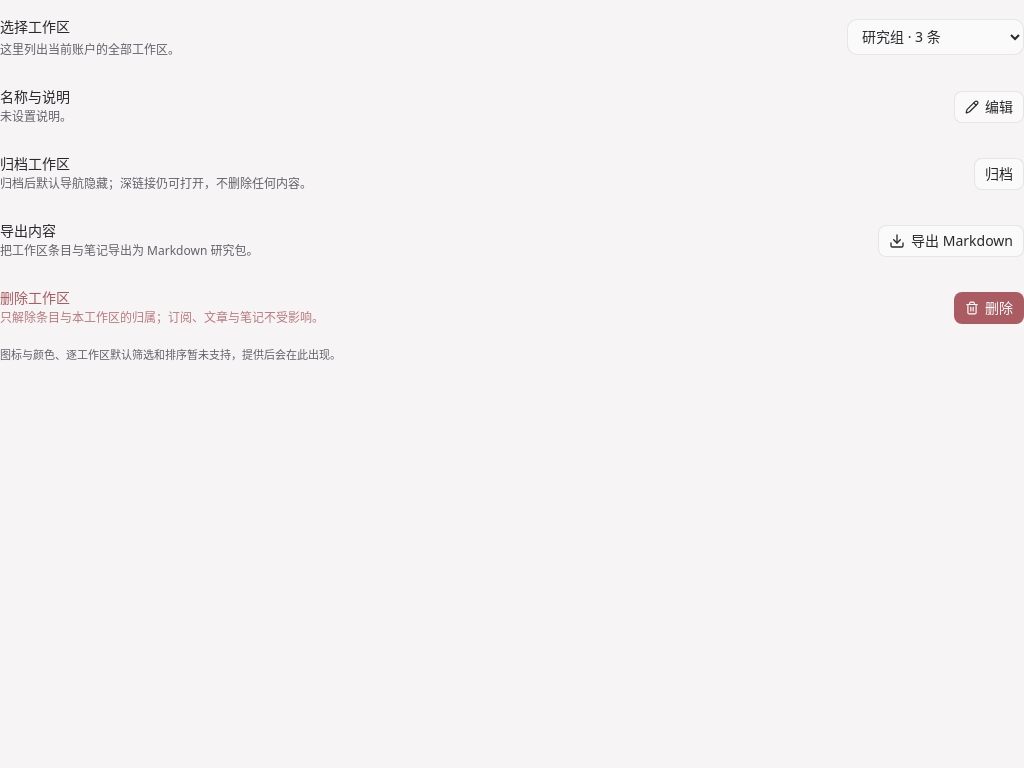
Test: 工作区设置面（R17） › 编辑名称与说明 → PATCH → 保存回显
Click the button "编辑" at (989, 107), box left=954, top=91, right=1023, bottom=123
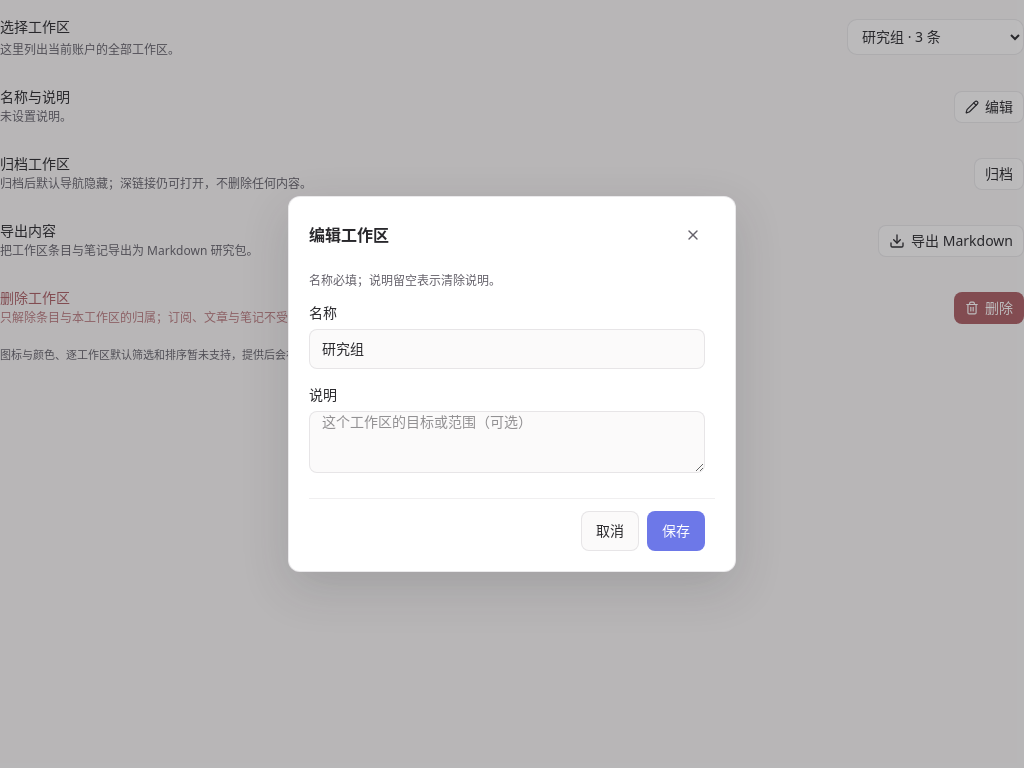
Replace the text in the field labelled "名称" with "深读清单" at (507, 349), box left=309, top=329, right=705, bottom=369
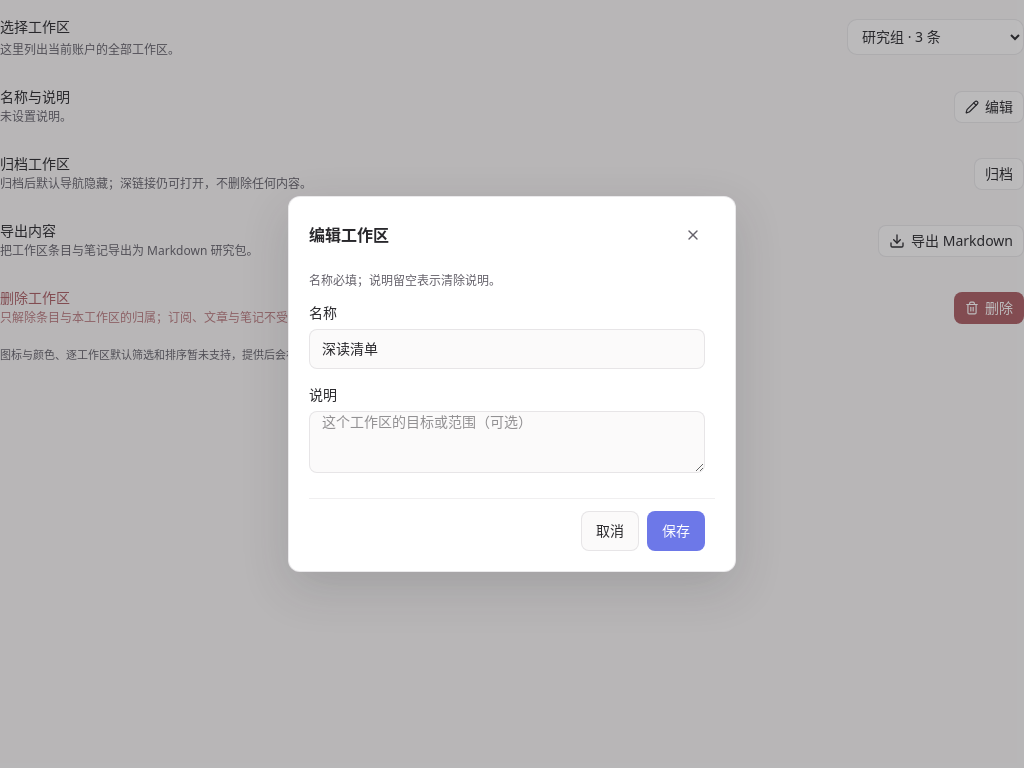
Type "只放本周要深读的条目" into the text box labelled "说明" at (507, 442), box left=309, top=411, right=705, bottom=473
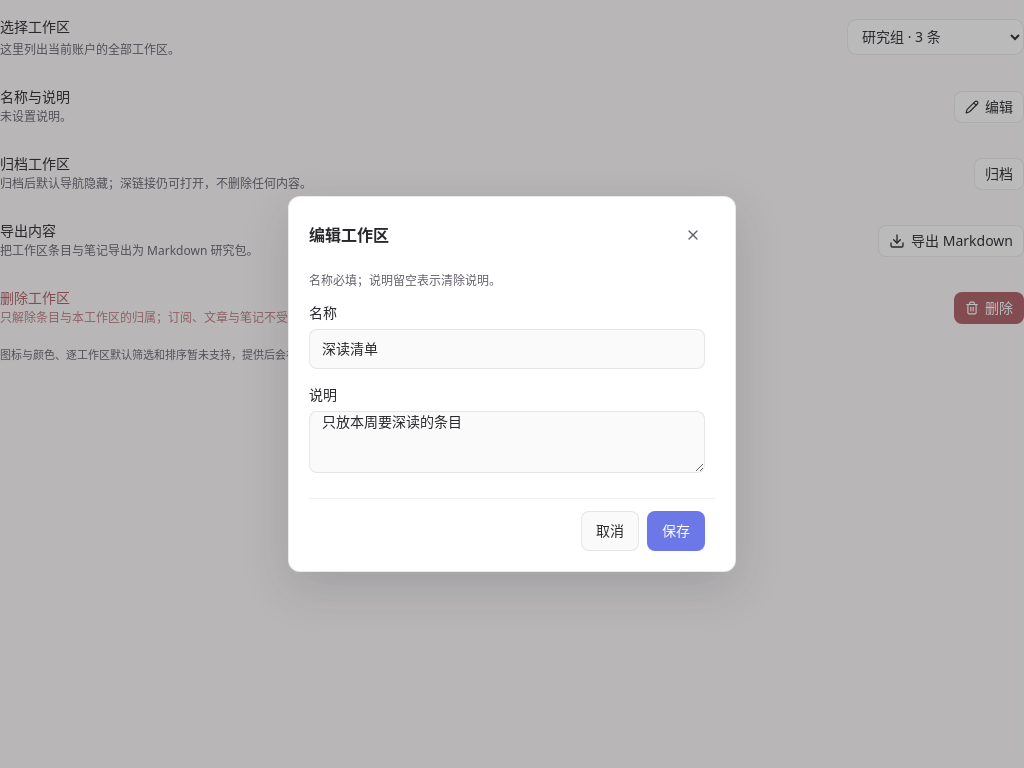
Click the button "保存" at (676, 531), box left=647, top=511, right=705, bottom=551
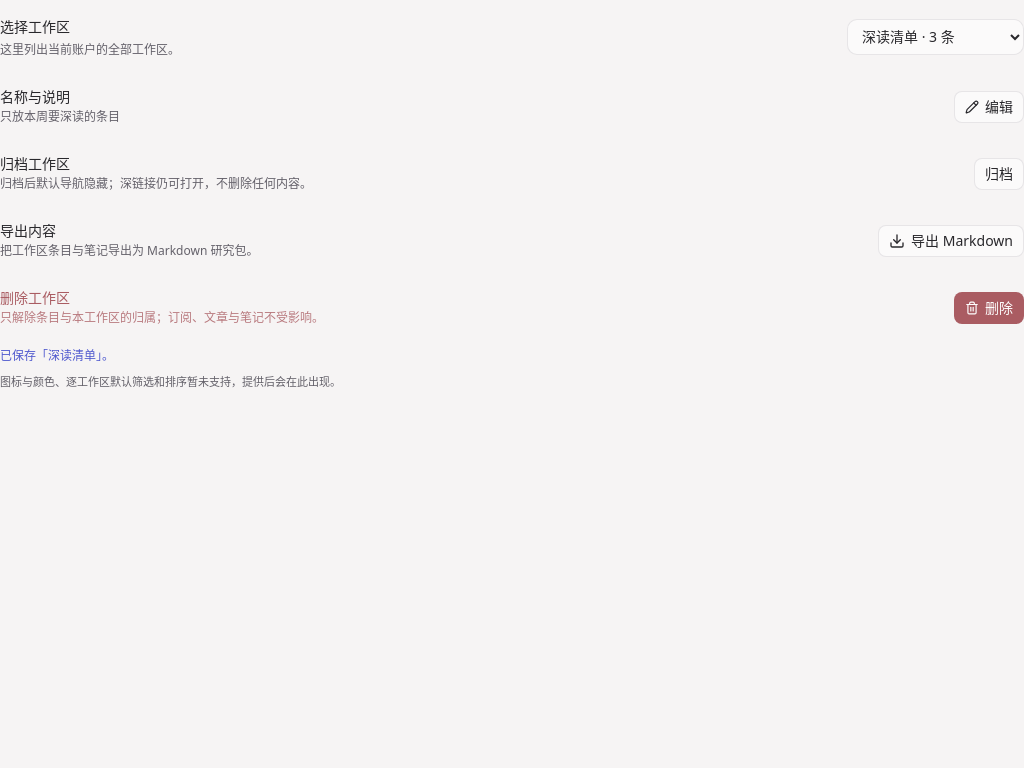
Expected: the text "已保存「深读清单」。" is shown, left=0, top=346, right=114, bottom=364
Note: 回显：重开对话框看到服务端确认的新值
Click the button "编辑" at (989, 107), box left=954, top=91, right=1023, bottom=123
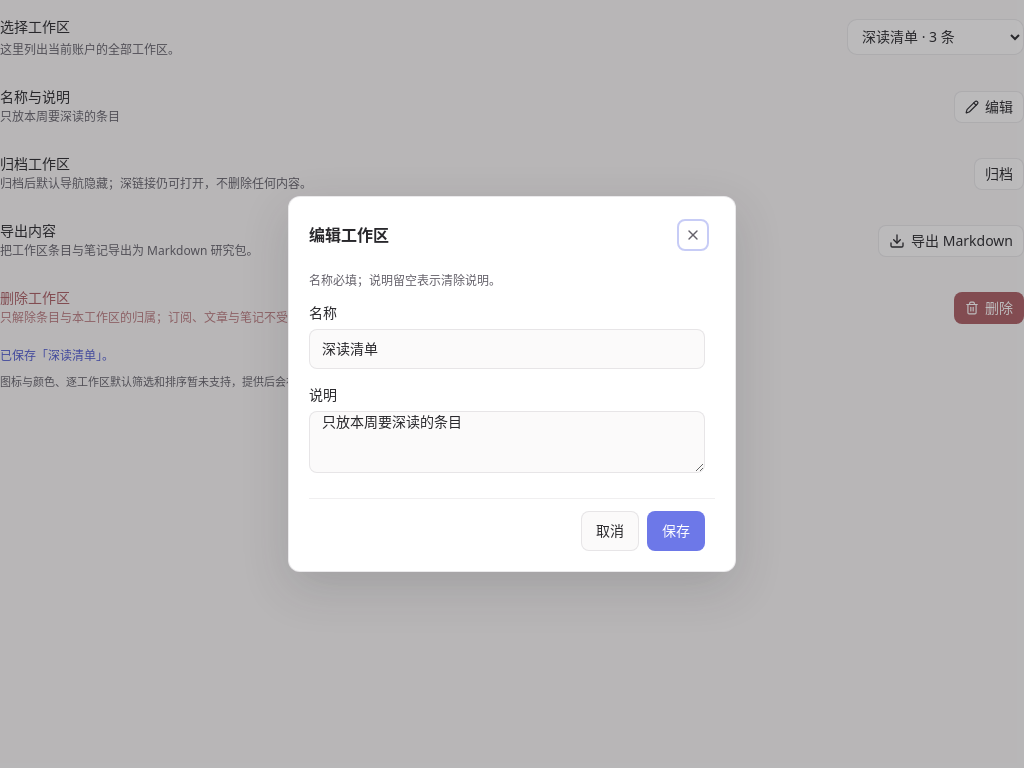
Expected: the field labelled "名称" holds "深读清单", left=309, top=329, right=705, bottom=369
Expected: the text box labelled "说明" holds "只放本周要深读的条目", left=309, top=411, right=705, bottom=473
